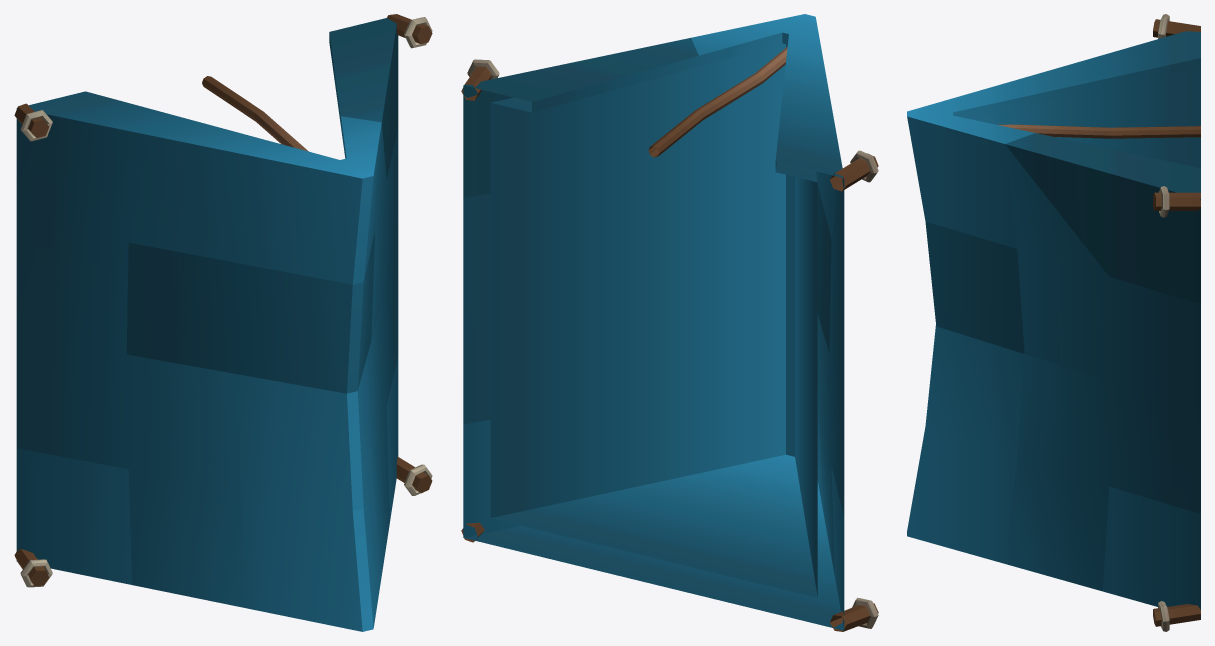
Rendered from camp-tent.obj.
3 views of the same model, side by side, from view 1: azimuth 30°, elevation 25°; view 2: azimuth 150°, elevation 25°; view 3: azimuth 270°, elevation 25° (orthographic). The views are drawn at different scales.
Parts seen in each view (by area): view 1: camp-tent; view 2: camp-tent; view 3: camp-tent.
Boxes of the visible parts, x1,y1,x2,y2 form: camp-tent: [14, 14, 432, 631]; camp-tent: [461, 14, 878, 631]; camp-tent: [907, 14, 1200, 631].
Bounding box in the file's own units: 301 × 333 × 201.
Materials: 1 (1 with a texture image).
